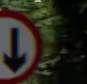Two way: (1, 7, 44, 81)
